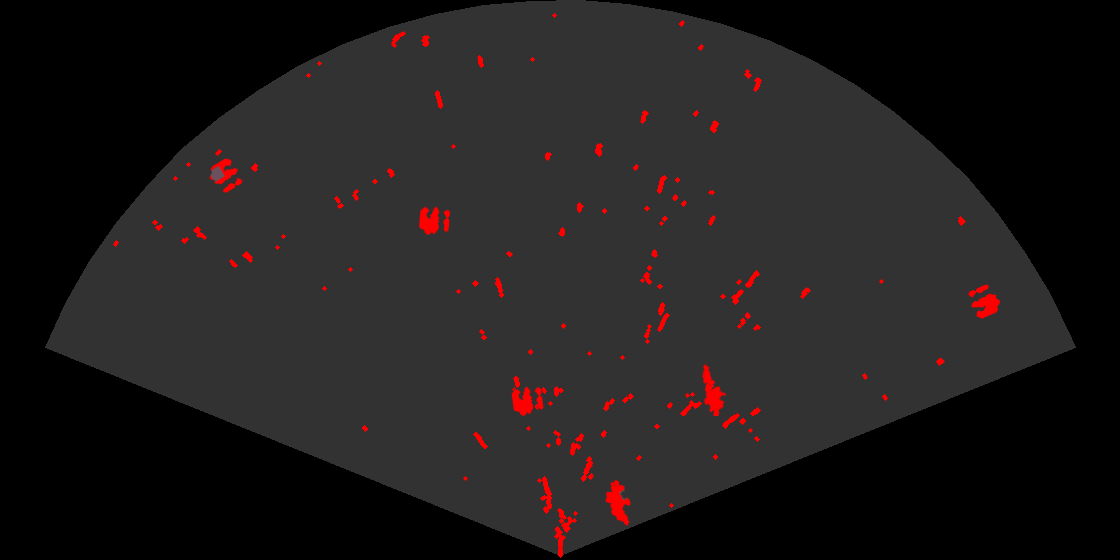AUV: (604, 478, 632, 527)
ball: (208, 157, 244, 194), (967, 283, 1002, 320), (510, 385, 545, 418), (417, 205, 452, 236)
frogman: (701, 363, 728, 416)
